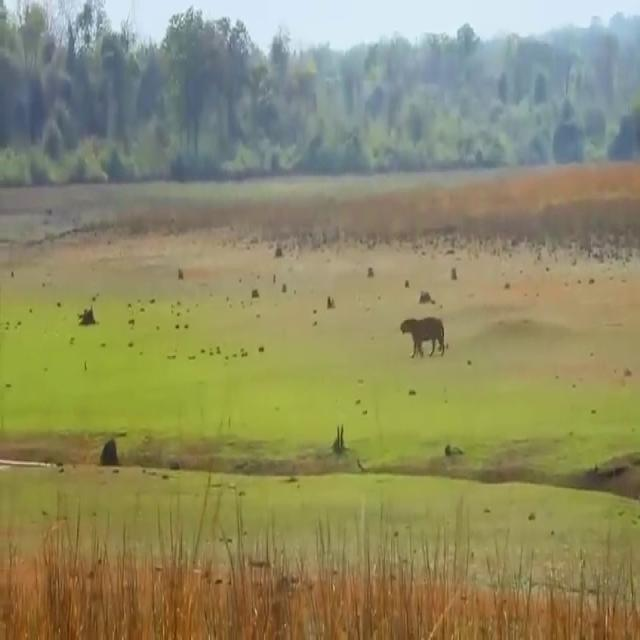tiger: (400, 317, 444, 358)
